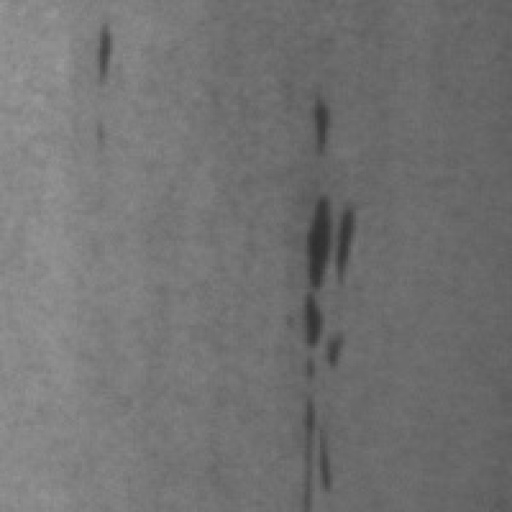inclusion: (287, 293, 348, 512), (297, 190, 352, 294), (301, 85, 340, 162), (90, 17, 118, 94)
